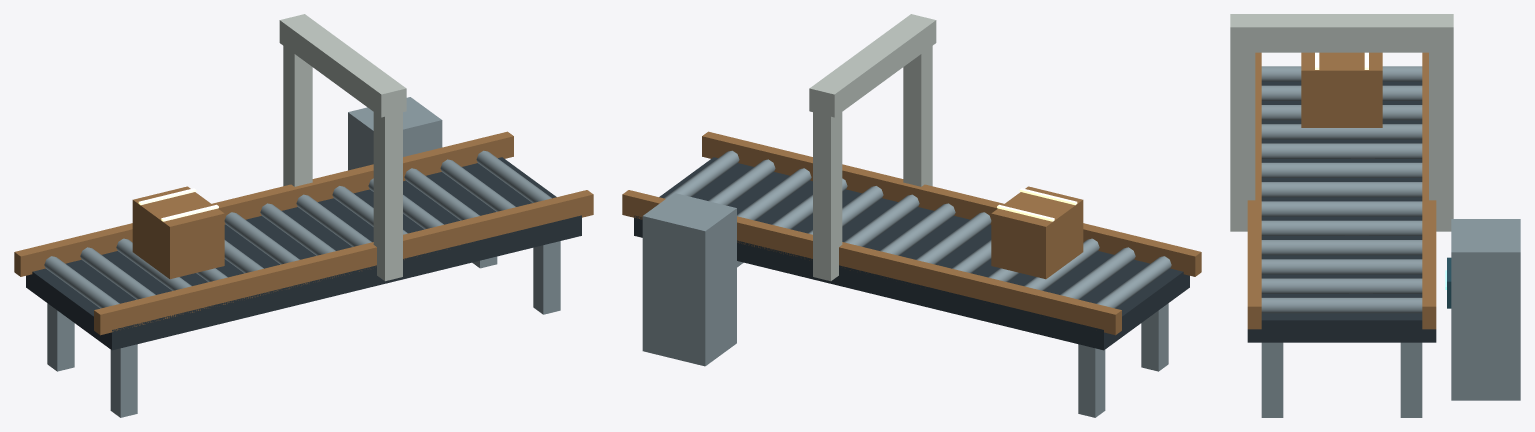
The model's file is parcel-sorter.lod2.glb.
3 renders of one model, left to right at view 1: azimuth 30°, elevation 25°; view 2: azimuth 150°, elevation 25°; view 3: azimuth 270°, elevation 25°, orthographic. The views are drawn at different scales.
Parts seen in each view (by area): view 1: structure, parcel; view 2: structure, parcel; view 3: structure, parcel.
Part boxes in pixels (x1,y1,x2,y2): structure: (14, 14, 593, 417); parcel: (132, 186, 224, 279); structure: (622, 14, 1201, 417); parcel: (991, 186, 1083, 279); structure: (1230, 14, 1520, 417); parcel: (1301, 52, 1382, 127).
Size of the model in its own units: 6.3 by 3.34 by 2.93.
